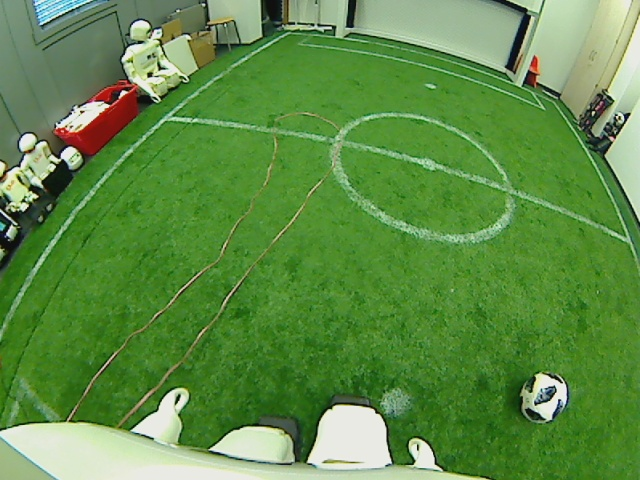ball: (517, 368, 570, 424)
